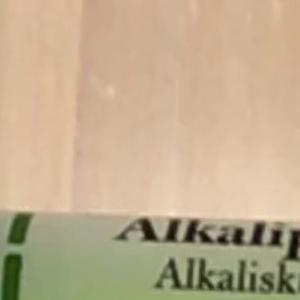keyword: (105, 209, 191, 252)
